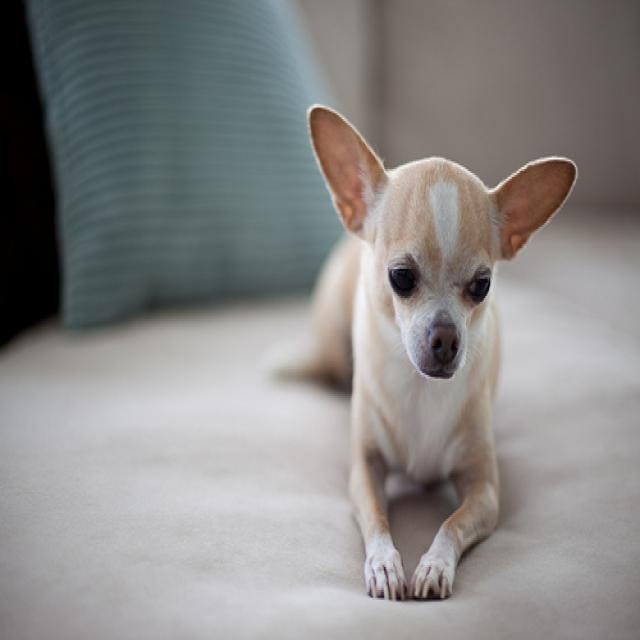dog-chihuahua: (260, 90, 589, 613)
